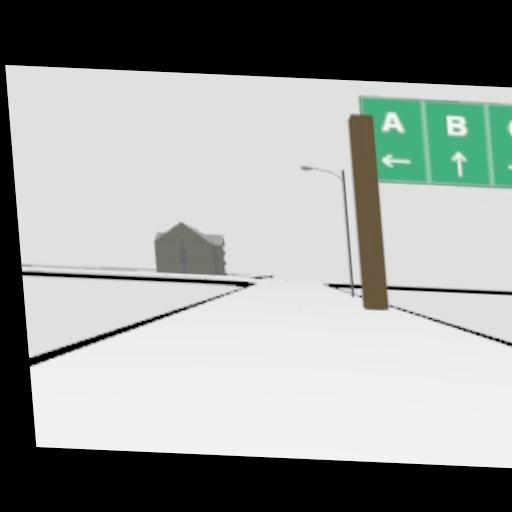A: (379, 109, 404, 133)
B: (444, 114, 467, 136)
C: (508, 117, 512, 138)
Left: (378, 153, 412, 169)
Right: (505, 159, 512, 174)
Straight: (451, 150, 467, 176)
